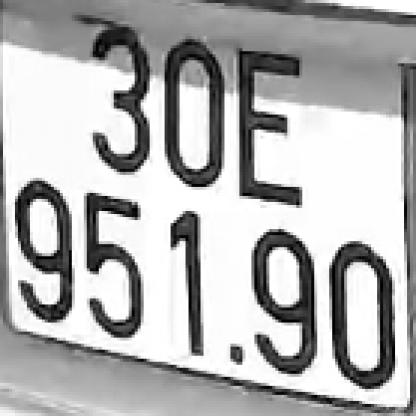0: (162, 36, 230, 193), (323, 238, 392, 389)
1: (164, 208, 216, 356)
3: (86, 30, 152, 178)
5: (84, 187, 150, 341)
9: (246, 226, 314, 374), (15, 178, 78, 325)
E: (233, 45, 306, 208)
